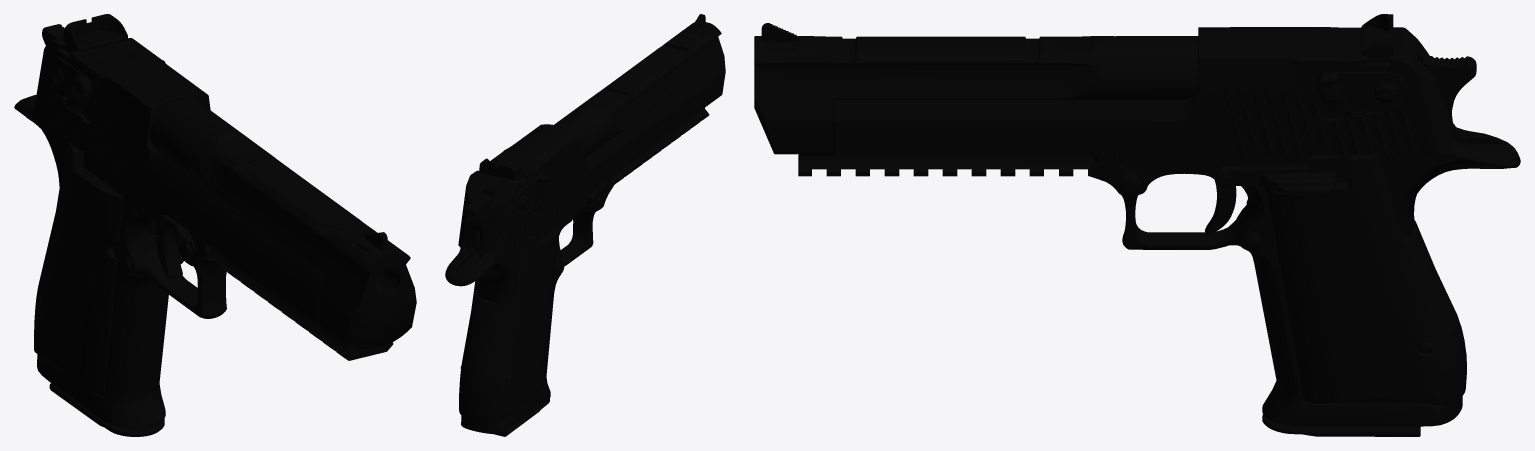
The model's file is pistol.glb.
The picture shows the model from 3 angles, left to right: view 1: azimuth 30°, elevation 25°; view 2: azimuth 150°, elevation 25°; view 3: azimuth 270°, elevation 25°; orthographic projection. The views are drawn at different scales.
Visible parts, largest first — view 1: node_id8; view 2: node_id8; view 3: node_id8.
Part boxes in pixels (x1=…): node_id8: x1=14, y1=14, x2=416, y2=436; node_id8: x1=445, y1=14, x2=725, y2=436; node_id8: x1=754, y1=14, x2=1520, y2=436.
Bounding box in the file's own units: 0.1343 × 0.512 × 0.8877.
Materials: 1 (1 with a texture image).
